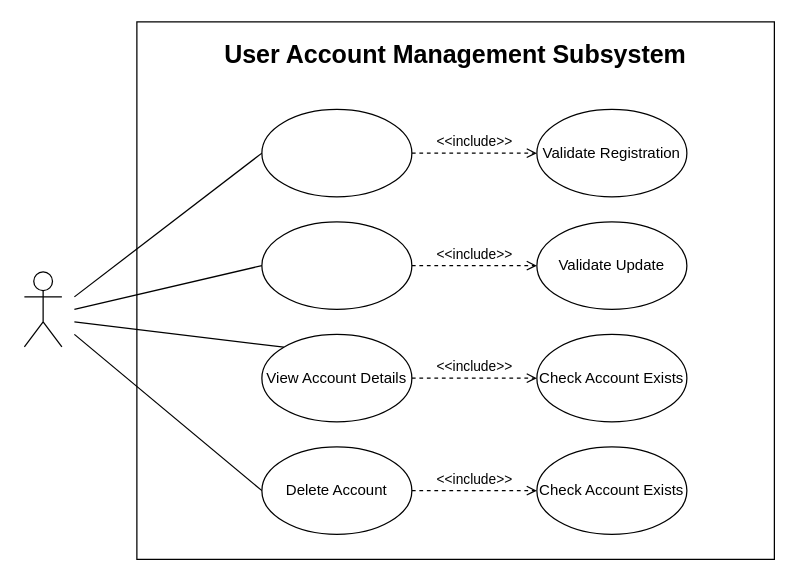
Image size: 796x581. Some labels were removed from this diagram. The shapes that lost their labels are listed below. From the top down, each one's centre as x and y in pixels, then its label:
the point at 336,152: Register Account
the point at 336,265: Update Account
the point at 42,309: Admin
